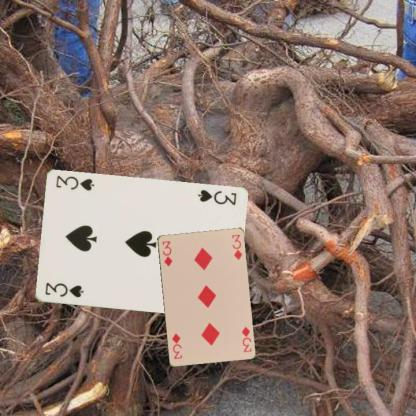3d: (160, 238, 174, 268), (238, 324, 252, 353)
3s: (195, 187, 237, 207), (43, 280, 84, 299)
